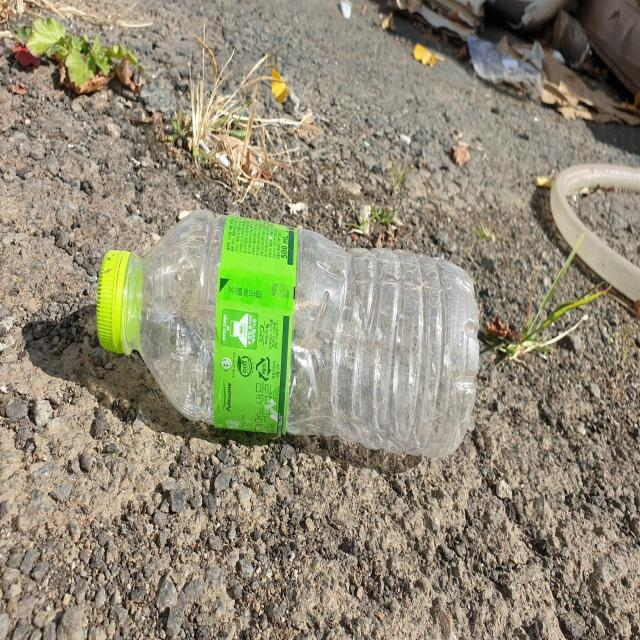plastic: (96, 209, 480, 457)
